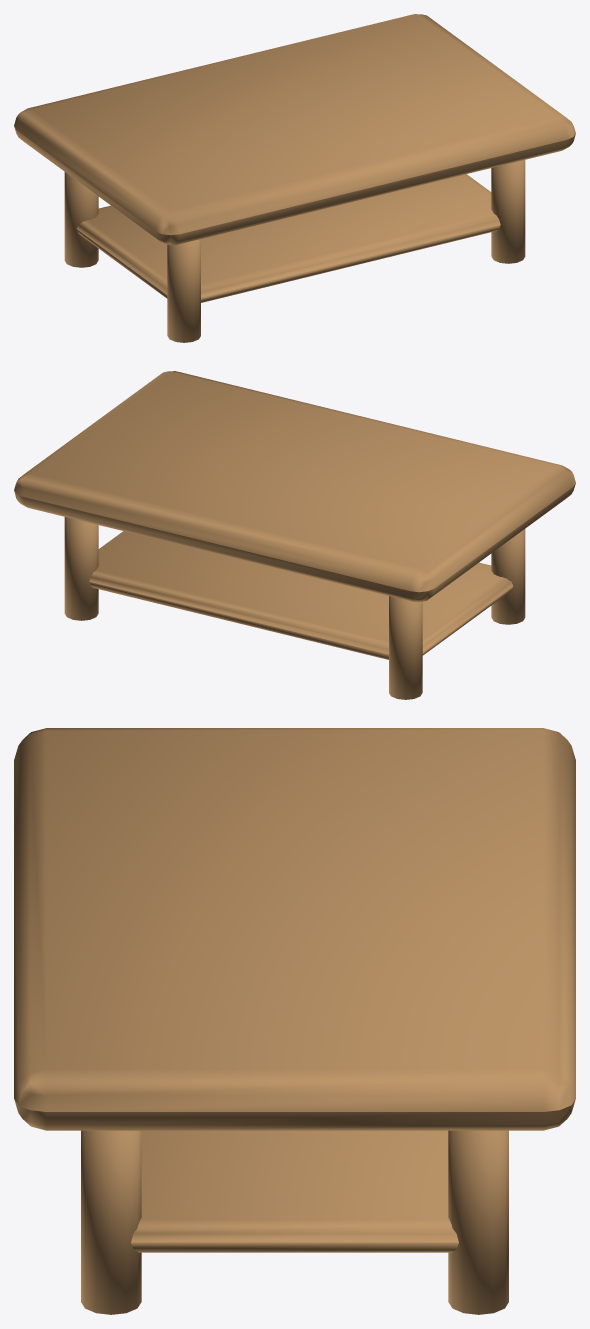
Rendered from rounded-coffee-table.glb.
3 views of the same model, one above another, from view 1: azimuth 30°, elevation 25°; view 2: azimuth 150°, elevation 25°; view 3: azimuth 270°, elevation 25° (orthographic). The views are drawn at different scales.
Parts seen in each view (by area): view 1: rounded-coffee-table-honey wood; view 2: rounded-coffee-table-honey wood; view 3: rounded-coffee-table-honey wood.
Boxes of the visible parts, x1,y1,x2,y2 form: rounded-coffee-table-honey wood: [14, 14, 575, 342]; rounded-coffee-table-honey wood: [14, 371, 575, 699]; rounded-coffee-table-honey wood: [14, 728, 575, 1314].
Size of the model in its own units: 4 by 1.33 by 2.6.
